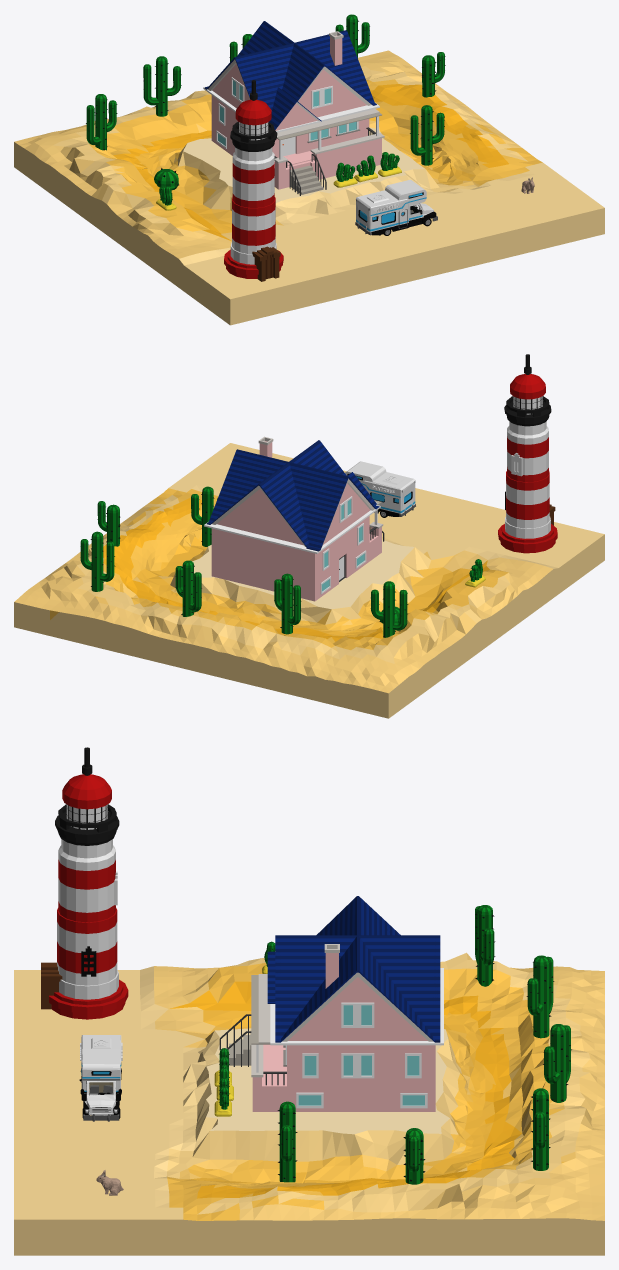
3 renders of one model, top to bottom at view 1: azimuth 30°, elevation 25°; view 2: azimuth 150°, elevation 25°; view 3: azimuth 270°, elevation 25°, orthographic. The views are drawn at different scales.
Parts seen in each view (by area): view 1: Cube.001, Cube.313, OBJRANDOM_LIGHTHOUSE, VEHICLES_CAMPER, Cylinder.044, Cylinder.037, Cylinder.045, Cylinder.038, Cylinder.042, Cylinder.039, Cylinder.041; view 2: Cube.001, Cube.313, OBJRANDOM_LIGHTHOUSE, VEHICLES_CAMPER, Cylinder.042, Cylinder.045, Cylinder.044, Cylinder.043, Cylinder.037, Cylinder.038; view 3: Cube.001, Cube.313, OBJRANDOM_LIGHTHOUSE, VEHICLES_CAMPER, Cylinder.044, Cylinder.043, Cylinder.045, Cylinder.037, Cylinder.042, Cylinder.038.
Part boxes in pixels (x1,y1,x2,y2): Cube.001: [14, 50, 604, 325]; Cube.313: [203, 21, 384, 195]; OBJRANDOM_LIGHTHOUSE: [224, 80, 283, 281]; VEHICLES_CAMPER: [355, 179, 437, 235]; Cylinder.044: [143, 56, 181, 116]; Cylinder.037: [410, 105, 444, 165]; Cylinder.045: [86, 94, 117, 150]; Cylinder.038: [422, 52, 445, 97]; Cylinder.042: [335, 14, 369, 58]; Cylinder.039: [333, 162, 357, 187]; Cylinder.041: [378, 152, 401, 176]; Cube.001: [14, 443, 604, 718]; Cube.313: [204, 436, 384, 601]; OBJRANDOM_LIGHTHOUSE: [498, 354, 557, 553]; VEHICLES_CAMPER: [345, 461, 415, 517]; Cylinder.042: [80, 531, 115, 591]; Cylinder.045: [370, 581, 408, 637]; Cylinder.044: [274, 573, 301, 634]; Cylinder.043: [175, 560, 201, 616]; Cylinder.037: [191, 486, 217, 546]; Cylinder.038: [97, 501, 120, 546]; Cube.001: [14, 952, 604, 1255]; Cube.313: [219, 896, 443, 1111]; OBJRANDOM_LIGHTHOUSE: [41, 747, 128, 1019]; VEHICLES_CAMPER: [79, 1035, 122, 1121]; Cylinder.044: [526, 955, 554, 1038]; Cylinder.043: [543, 1024, 571, 1102]; Cylinder.045: [475, 905, 495, 986]; Cylinder.037: [277, 1101, 297, 1182]; Cylinder.042: [531, 1088, 550, 1170]; Cylinder.038: [403, 1128, 425, 1184].
Bounding box in the file's own units: 4002 × 2266 × 4001.
Materials: 39 (2 with a texture image).
